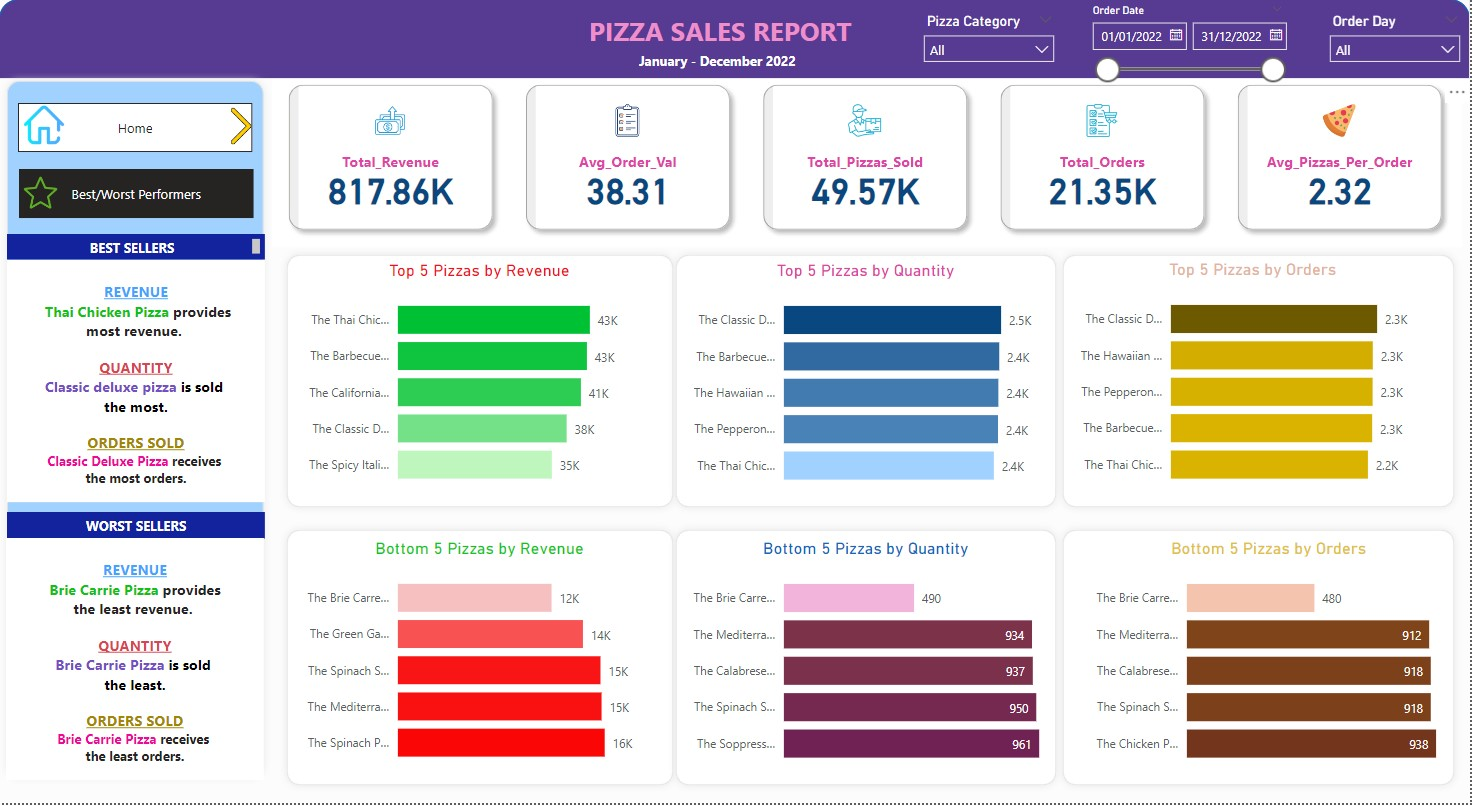

The dashboard page shown, as its layout file describes it:
{"tool":"powerbi","page":{"name":"Best/Worst Performers","canvas":[1500,820],"ordinal":1},"visuals":[{"type":"cardVisual","fields":{"Data":["pizza_sales.Total_Revenue","pizza_sales.Avg_Order_Val","pizza_sales.Total_Pizzas_Sold","pizza_sales.Total_Orders","pizza_sales.Avg_Pizzas_Per_Order"]},"box":[278.4,70.4,1213.7,182.6],"z":0},{"type":"shape","box":[0,0,1500.3,81.6],"z":1000},{"type":"textbox","box":[596.6,9.2,287.6,47.9],"z":2000},{"type":"textbox","box":[647.6,49,184.6,26.5],"z":3000},{"type":"shape","box":[285.6,252.9,410,273.3],"z":4000},{"type":"shape","box":[1077,252.9,415.1,273.3],"z":5000},{"type":"shape","box":[285.6,533.4,410,276.4],"z":6000},{"type":"shape","box":[1077,533.4,415.1,276.4],"z":7000},{"type":"shape","box":[682.3,533.4,403.9,276.4],"z":8000},{"type":"shape","box":[0,75.2,277.9,726.7],"z":9000},{"type":"textbox","box":[8,239.2,263.1,26.2],"z":10000},{"type":"textbox","box":[8,266.5,263.1,247.2],"z":11000},{"type":"textbox","box":[8,522.8,263.1,27.3],"z":12000},{"type":"slicer","fields":{"Values":["pizza_sales.pizza_category"]},"box":[933.2,9.2,153,66.3],"z":13000},{"type":"slicer","fields":{"Values":["pizza_sales.order_date"]},"box":[1102.5,0,218.3,106.1],"z":14000},{"type":"slicer","fields":{"Values":["pizza_sales.day_name"]},"box":[1347.3,9.2,153,66.3],"z":15000},{"type":"shape","box":[682.3,252.9,403.9,273.3],"z":16000},{"type":"barChart","title":"Top 5 Pizzas by Revenue","fields":{"Category":["pizza_sales.pizza_name"],"Y":["pizza_sales.Total_Revenue"]},"box":[297.8,266.2,384.5,243.8],"z":17000},{"type":"barChart","title":"Bottom 5 Pizzas by Revenue","fields":{"Category":["pizza_sales.pizza_name"],"Y":["pizza_sales.Total_Revenue"]},"box":[297.8,549.7,384.5,243.8],"z":18000},{"type":"barChart","title":"Top 5 Pizzas by Quantity","fields":{"Category":["pizza_sales.pizza_name"],"Y":["pizza_sales.Total_Pizzas_Sold"]},"box":[691.3,266.5,385,244.9],"z":19000},{"type":"barChart","title":"Bottom 5 Pizzas by Quantity","fields":{"Category":["pizza_sales.pizza_name"],"Y":["pizza_sales.Total_Pizzas_Sold"]},"box":[691.3,550.1,385,244.9],"z":20000},{"type":"barChart","title":"Top 5 Pizzas by Orders","fields":{"Category":["pizza_sales.pizza_name"],"Y":["pizza_sales.Total_Orders"]},"box":[1086.6,265.4,385,244.9],"z":21000},{"type":"barChart","title":"Bottom 5 Pizzas by Orders","fields":{"Category":["pizza_sales.pizza_name"],"Y":["pizza_sales.Total_Orders"]},"box":[1102.5,550.1,385,244.9],"z":22000},{"type":"textbox","box":[6.8,550.1,263.1,247.2],"z":23000},{"type":"pageNavigator","box":[20.5,173.1,239.2,50.1],"z":24000},{"type":"pageNavigator","box":[19.4,105.9,239.2,50.1],"z":25000},{"type":"image","box":[20.4,100,51,56.1],"z":26000},{"type":"image","box":[223.4,106.1,46.9,46.9],"z":27000},{"type":"image","box":[19.4,175.4,44.9,43.9],"z":28000}]}

Visuals, with their boxes in screenshot pixels (x1, y1, x2, y2), scaled from the page's 1500x820 canvas onto the 1472x806 screenshot:
cardVisual - pizza_sales.Total_Revenue x pizza_sales.Avg_Order_Val: box=[273, 69, 1464, 249]
shape: box=[0, 0, 1471, 80]
textbox: box=[585, 9, 868, 56]
textbox: box=[636, 48, 817, 74]
shape: box=[280, 249, 683, 517]
shape: box=[1057, 249, 1464, 517]
shape: box=[280, 524, 683, 796]
shape: box=[1057, 524, 1464, 796]
shape: box=[670, 524, 1066, 796]
shape: box=[0, 74, 273, 788]
textbox: box=[8, 235, 266, 261]
textbox: box=[8, 262, 266, 505]
textbox: box=[8, 514, 266, 541]
slicer - pizza_sales.pizza_category: box=[916, 9, 1066, 74]
slicer - pizza_sales.order_date: box=[1082, 0, 1296, 104]
slicer - pizza_sales.day_name: box=[1322, 9, 1471, 74]
shape: box=[670, 249, 1066, 517]
"Top 5 Pizzas by Revenue" barChart: box=[292, 262, 670, 501]
"Bottom 5 Pizzas by Revenue" barChart: box=[292, 540, 670, 780]
"Top 5 Pizzas by Quantity" barChart: box=[678, 262, 1056, 503]
"Bottom 5 Pizzas by Quantity" barChart: box=[678, 541, 1056, 781]
"Top 5 Pizzas by Orders" barChart: box=[1066, 261, 1444, 502]
"Bottom 5 Pizzas by Orders" barChart: box=[1082, 541, 1460, 781]
textbox: box=[7, 541, 265, 784]
pageNavigator: box=[20, 170, 255, 219]
pageNavigator: box=[19, 104, 254, 153]
image: box=[20, 98, 70, 153]
image: box=[219, 104, 265, 150]
image: box=[19, 172, 63, 216]
